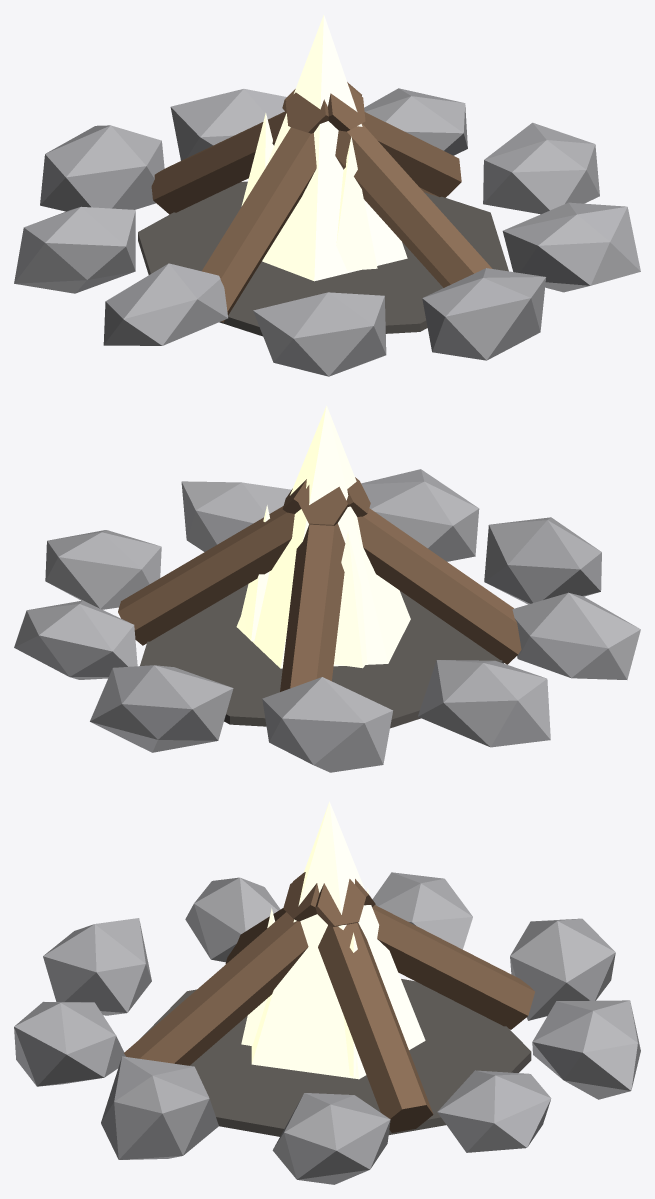
The model's file is SM_Campfire.fbx.
The picture shows the model from 3 angles, top to bottom: view 1: azimuth 30°, elevation 25°; view 2: azimuth 150°, elevation 25°; view 3: azimuth 270°, elevation 25°; orthographic projection. The views are drawn at different scales.
Parts seen in each view (by area): view 1: SM_Campfire; view 2: SM_Campfire; view 3: SM_Campfire.
Part boxes in pixels (left/top/right/bottom): SM_Campfire: left=14, top=15, right=640, bottom=376; SM_Campfire: left=14, top=405, right=640, bottom=772; SM_Campfire: left=14, top=801, right=640, bottom=1184.
Bounding box in the file's own units: 1.36 × 0.6327 × 1.3.
